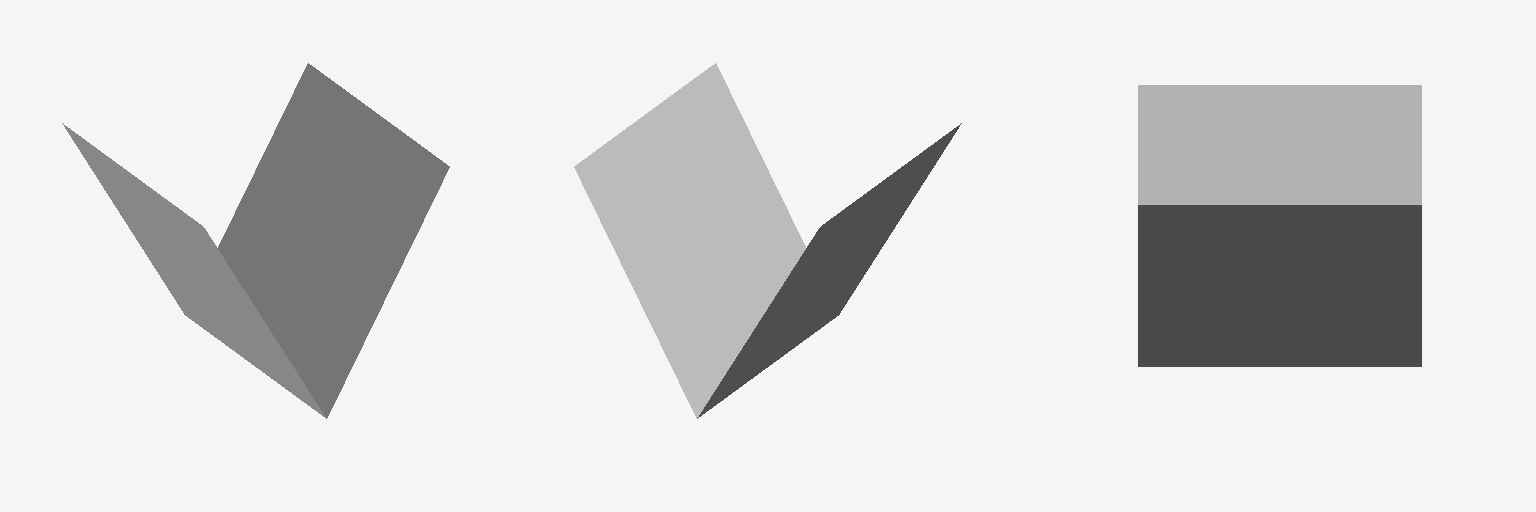
Rendered from crease.obj.
The picture shows the model from 3 angles: view 1: azimuth 30°, elevation 25°; view 2: azimuth 150°, elevation 25°; view 3: azimuth 270°, elevation 25°; orthographic projection.
Visible parts, largest first — view 1: pPlane1; view 2: pPlane1; view 3: pPlane1.
Part boxes in pixels (x1,y1,x2,y2): pPlane1: (62,63,449,418); pPlane1: (574,63,961,418); pPlane1: (1138,85,1421,366).
Bounding box in the file's own units: 8 × 6.91 × 8.